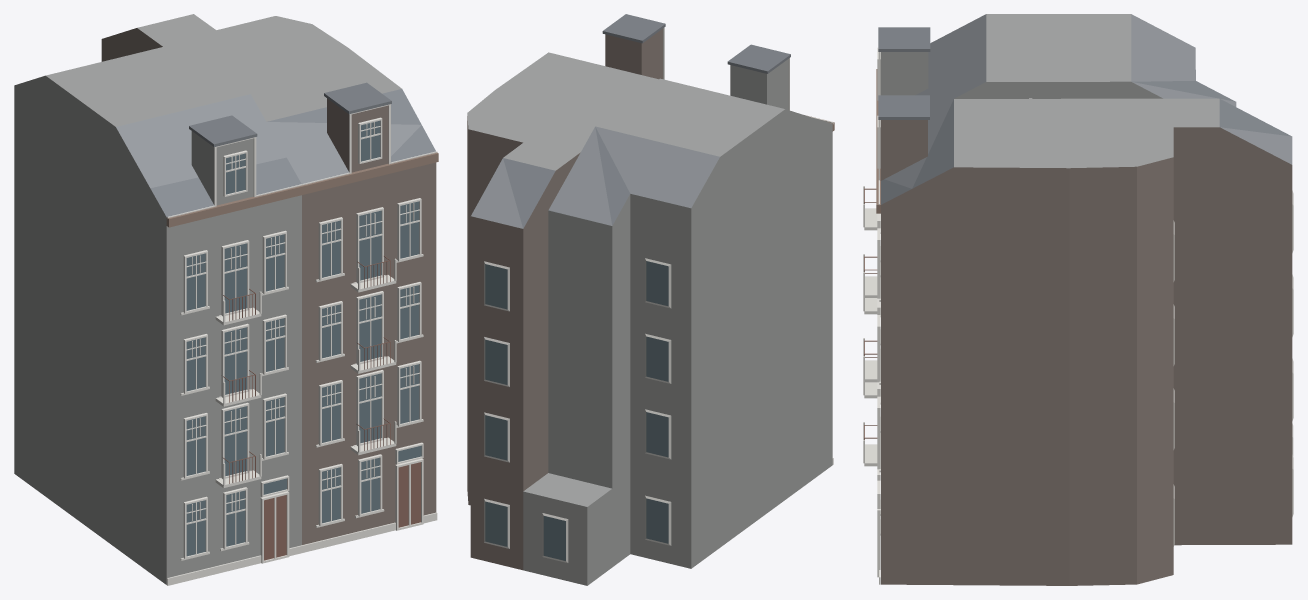
File: chunk-face-helmers-23-57-r3.glb
The picture shows the model from 3 angles, left to right: view 1: azimuth 30°, elevation 25°; view 2: azimuth 150°, elevation 25°; view 3: azimuth 270°, elevation 25°; orthographic projection. The views are drawn at different scales.
Visible parts, largest first — view 1: face-helmers-23-57-r3; view 2: face-helmers-23-57-r3; view 3: face-helmers-23-57-r3.
Part boxes in pixels (x1=…): face-helmers-23-57-r3: x1=14, y1=14, x2=438, y2=585; face-helmers-23-57-r3: x1=467, y1=14, x2=834, y2=585; face-helmers-23-57-r3: x1=863, y1=14, x2=1293, y2=585.
Bounding box in the file's own units: 11.88 × 17.94 × 15.73.
